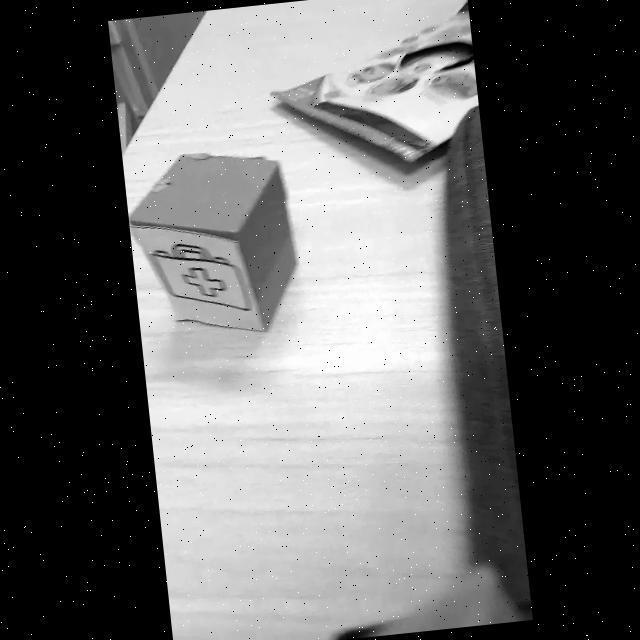Medkit: (152, 243, 252, 310)
